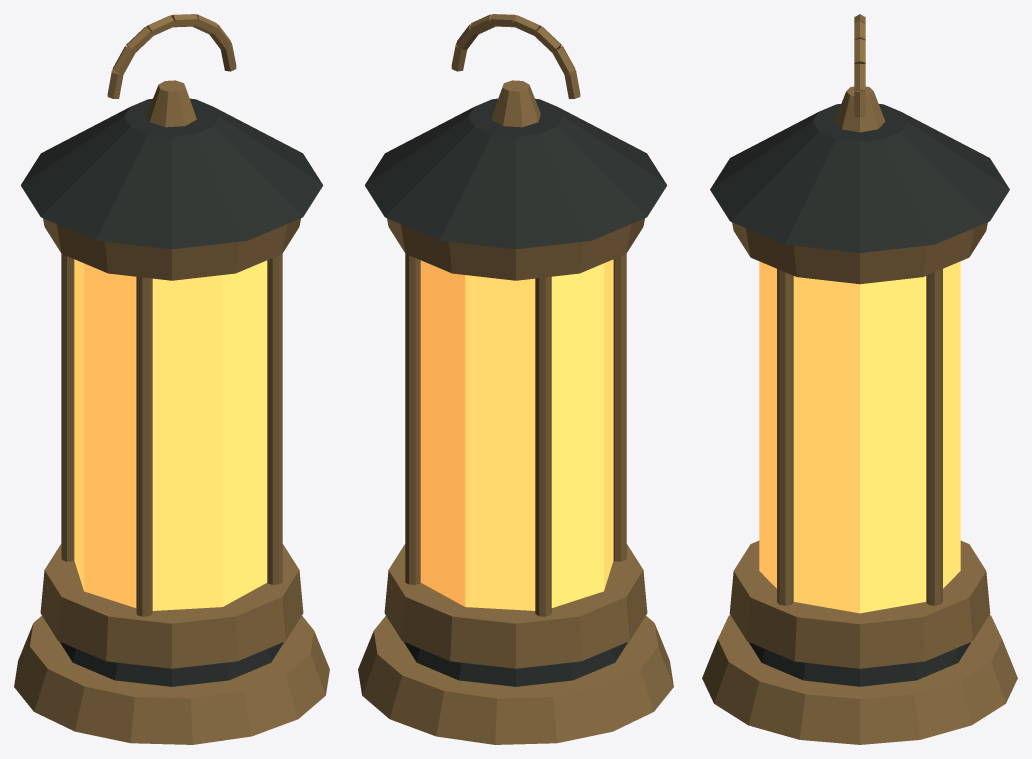
The model's file is prop_lantern.glb.
3 views of the same model, side by side, from view 1: azimuth 30°, elevation 25°; view 2: azimuth 150°, elevation 25°; view 3: azimuth 270°, elevation 25° (orthographic).
Visible parts, largest first — view 1: prop_lantern.002; view 2: prop_lantern.002; view 3: prop_lantern.002.
Boxes of the visible parts, x1,y1,x2,y2 form: prop_lantern.002: (14, 14, 329, 744); prop_lantern.002: (358, 14, 673, 744); prop_lantern.002: (702, 14, 1017, 744).
Bounding box in the file's own units: 0.8 × 1.84 × 0.8.
